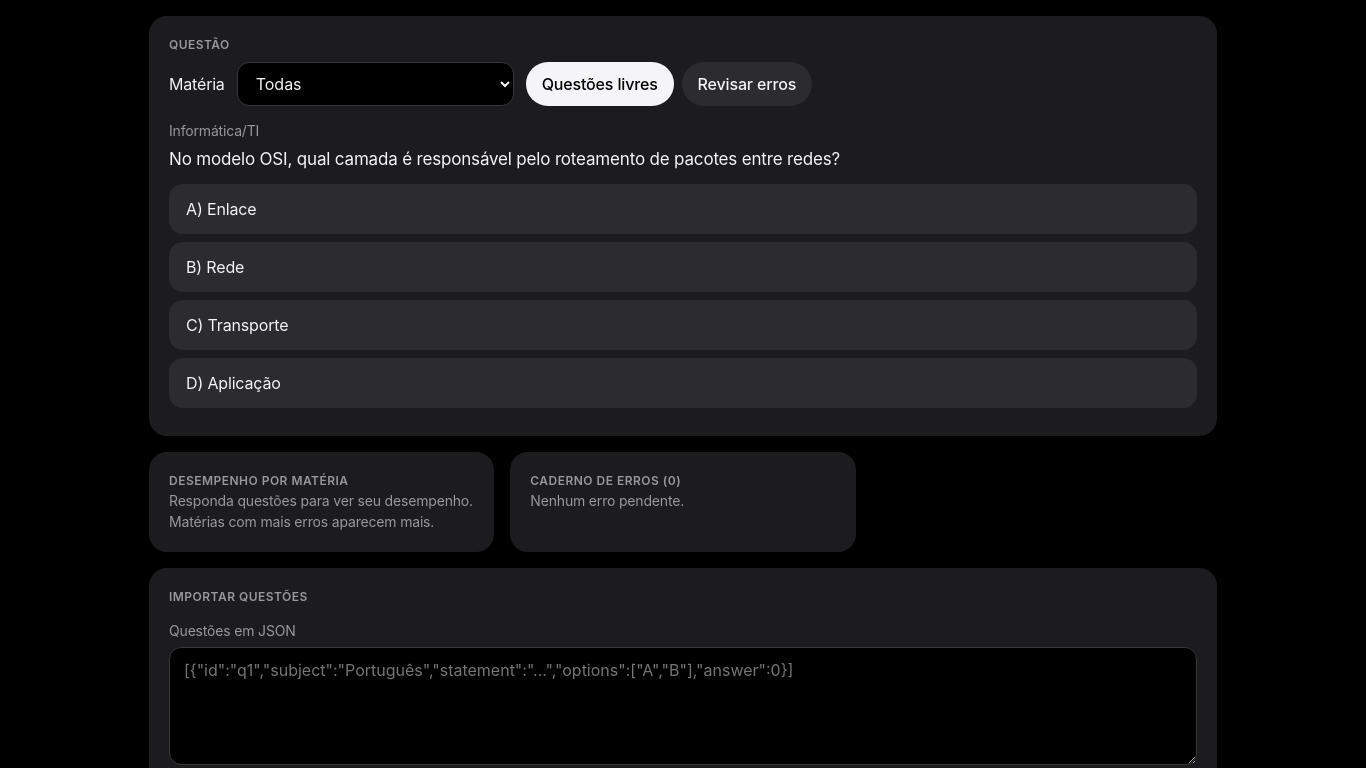
Test: responder certo mostra "Correto" e grava a tentativa
What coordinates should you click on to do the following:
click the button "B) Rede"
I would click on:
 (225, 267)
Its box is [169,242,1197,292].
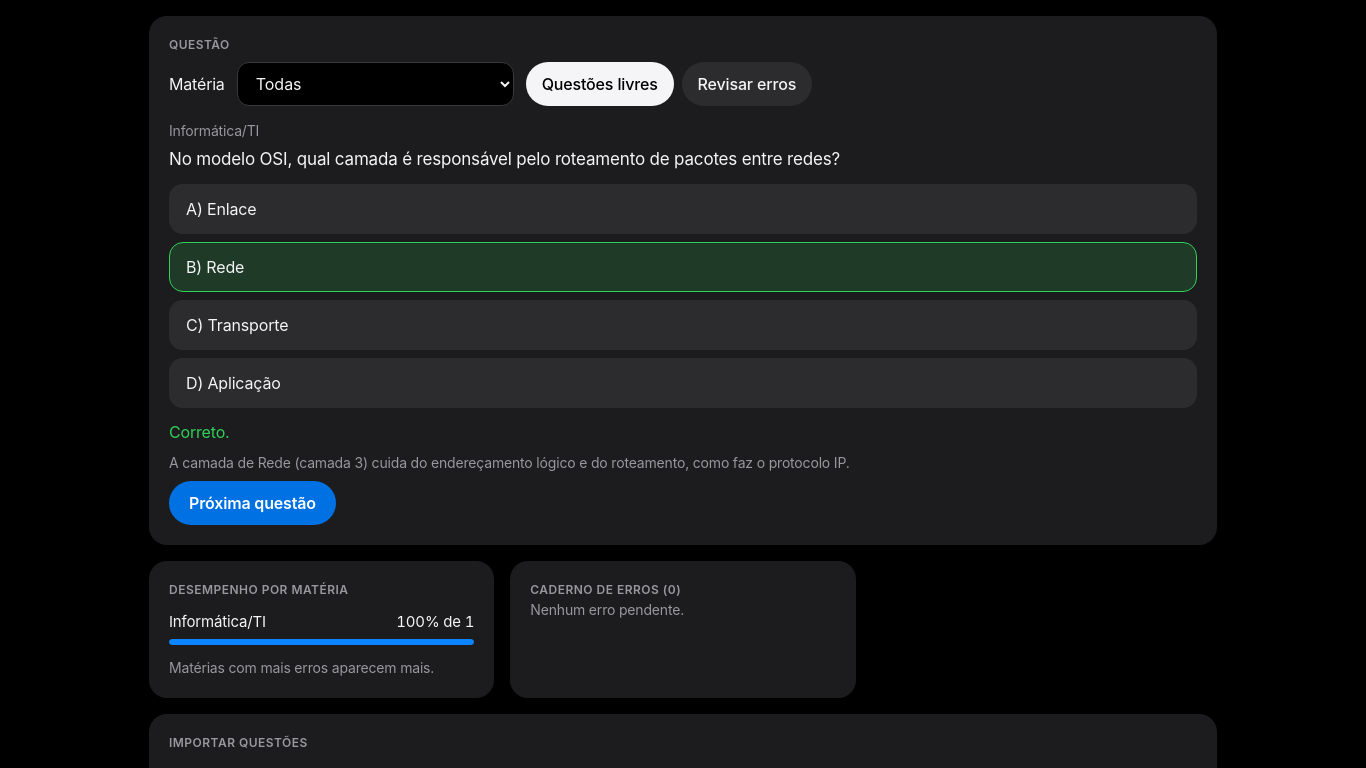
Expected: the text "Correto." is shown, [169,420,230,444]
